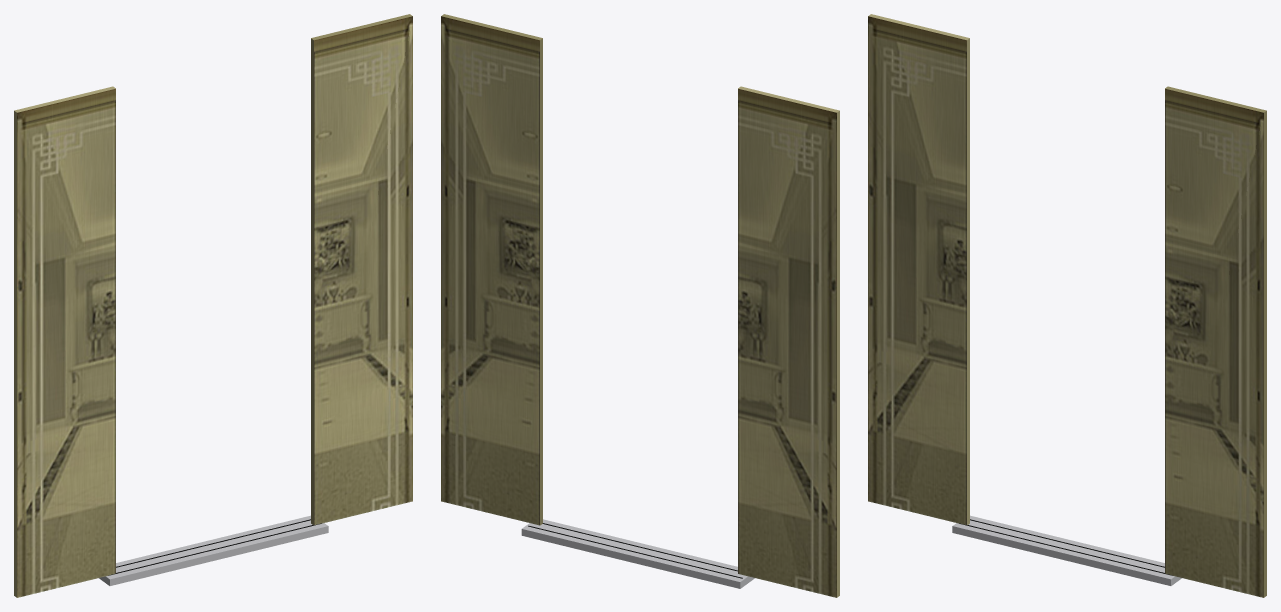
File: cabin_door_TM026.glb
3 renders of one model, left to right at view 1: azimuth 30°, elevation 25°; view 2: azimuth 150°, elevation 25°; view 3: azimuth 330°, elevation 25°, orthographic.
Parts seen in each view (by area): view 1: Car_Door_L, Car_Door_R, Door_Sill; view 2: Car_Door_L, Car_Door_R, Door_Sill; view 3: Car_Door_R, Car_Door_L, Door_Sill.
Boxes of the visible parts, box(x1,y1,x2,y2) form: Car_Door_L: box(14, 86, 115, 597); Car_Door_R: box(311, 14, 412, 525); Door_Sill: box(99, 515, 328, 585); Car_Door_L: box(738, 86, 839, 597); Car_Door_R: box(441, 14, 542, 525); Door_Sill: box(521, 519, 754, 588); Car_Door_R: box(1165, 86, 1266, 597); Car_Door_L: box(868, 14, 969, 525); Door_Sill: box(952, 515, 1181, 585).
Bounding box in the file's own units: 1.81 × 2.15 × 0.12.
3 materials, 1 textured.
